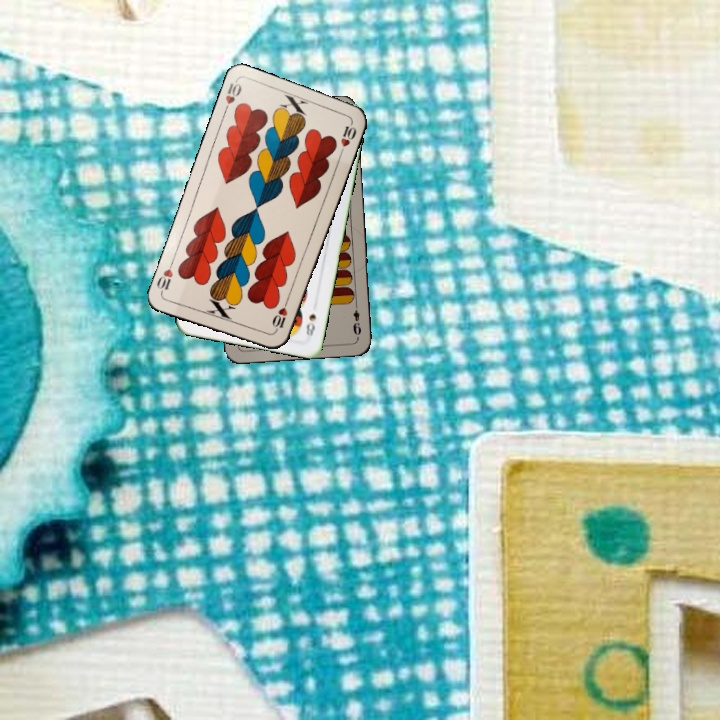E9: (349, 299, 364, 337)
H10: (219, 77, 244, 117), (268, 296, 291, 335)
S8: (302, 310, 319, 340)
